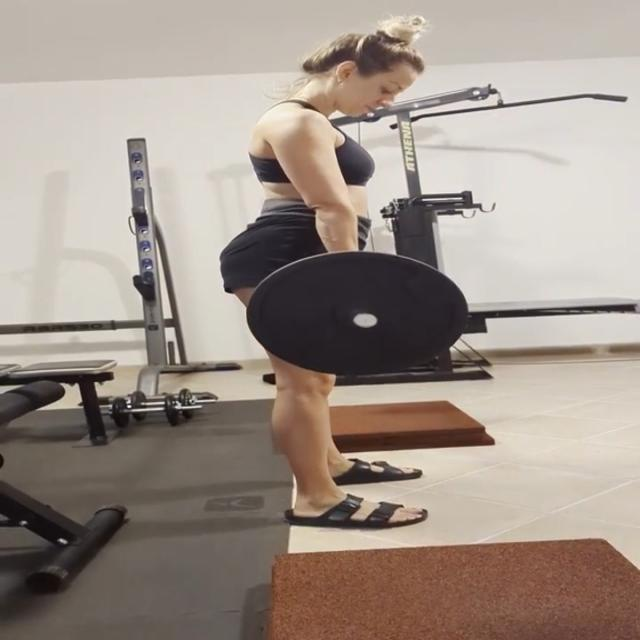barbell: (241, 246, 477, 379)
